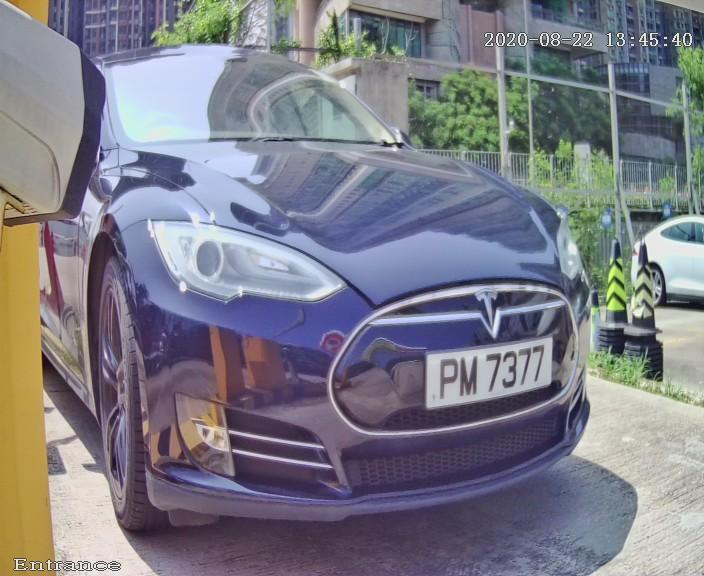License Plate: (396, 319, 568, 422)
